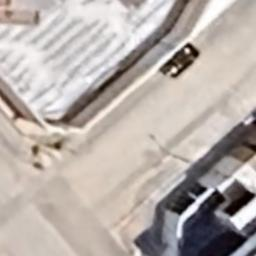sedan: (156, 40, 202, 80)
